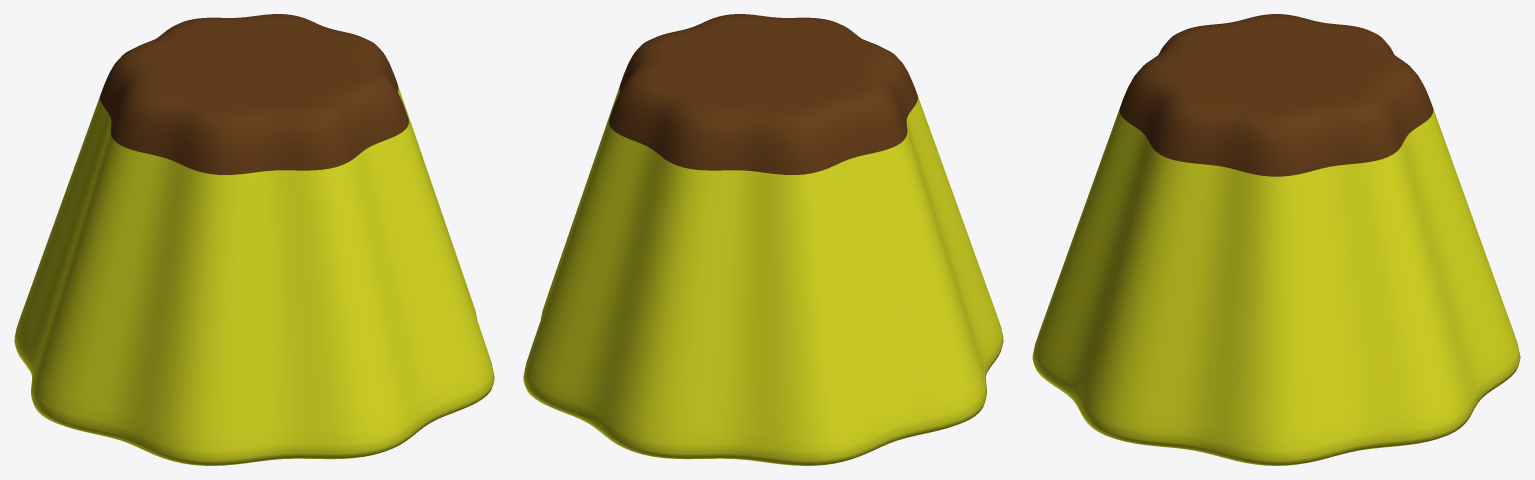
File: pudding-3.fbx
3 views of the same model, side by side, from view 1: azimuth 30°, elevation 25°; view 2: azimuth 150°, elevation 25°; view 3: azimuth 270°, elevation 25° (orthographic).
Visible parts, largest first — view 1: Pudding; view 2: Pudding; view 3: Pudding.
Boxes of the visible parts, x1,y1,x2,y2 form: Pudding: (14,14,494,465); Pudding: (523,14,1003,465); Pudding: (1032,14,1520,465).
Bounding box in the file's own units: 2.18 × 1.5 × 2.18.
